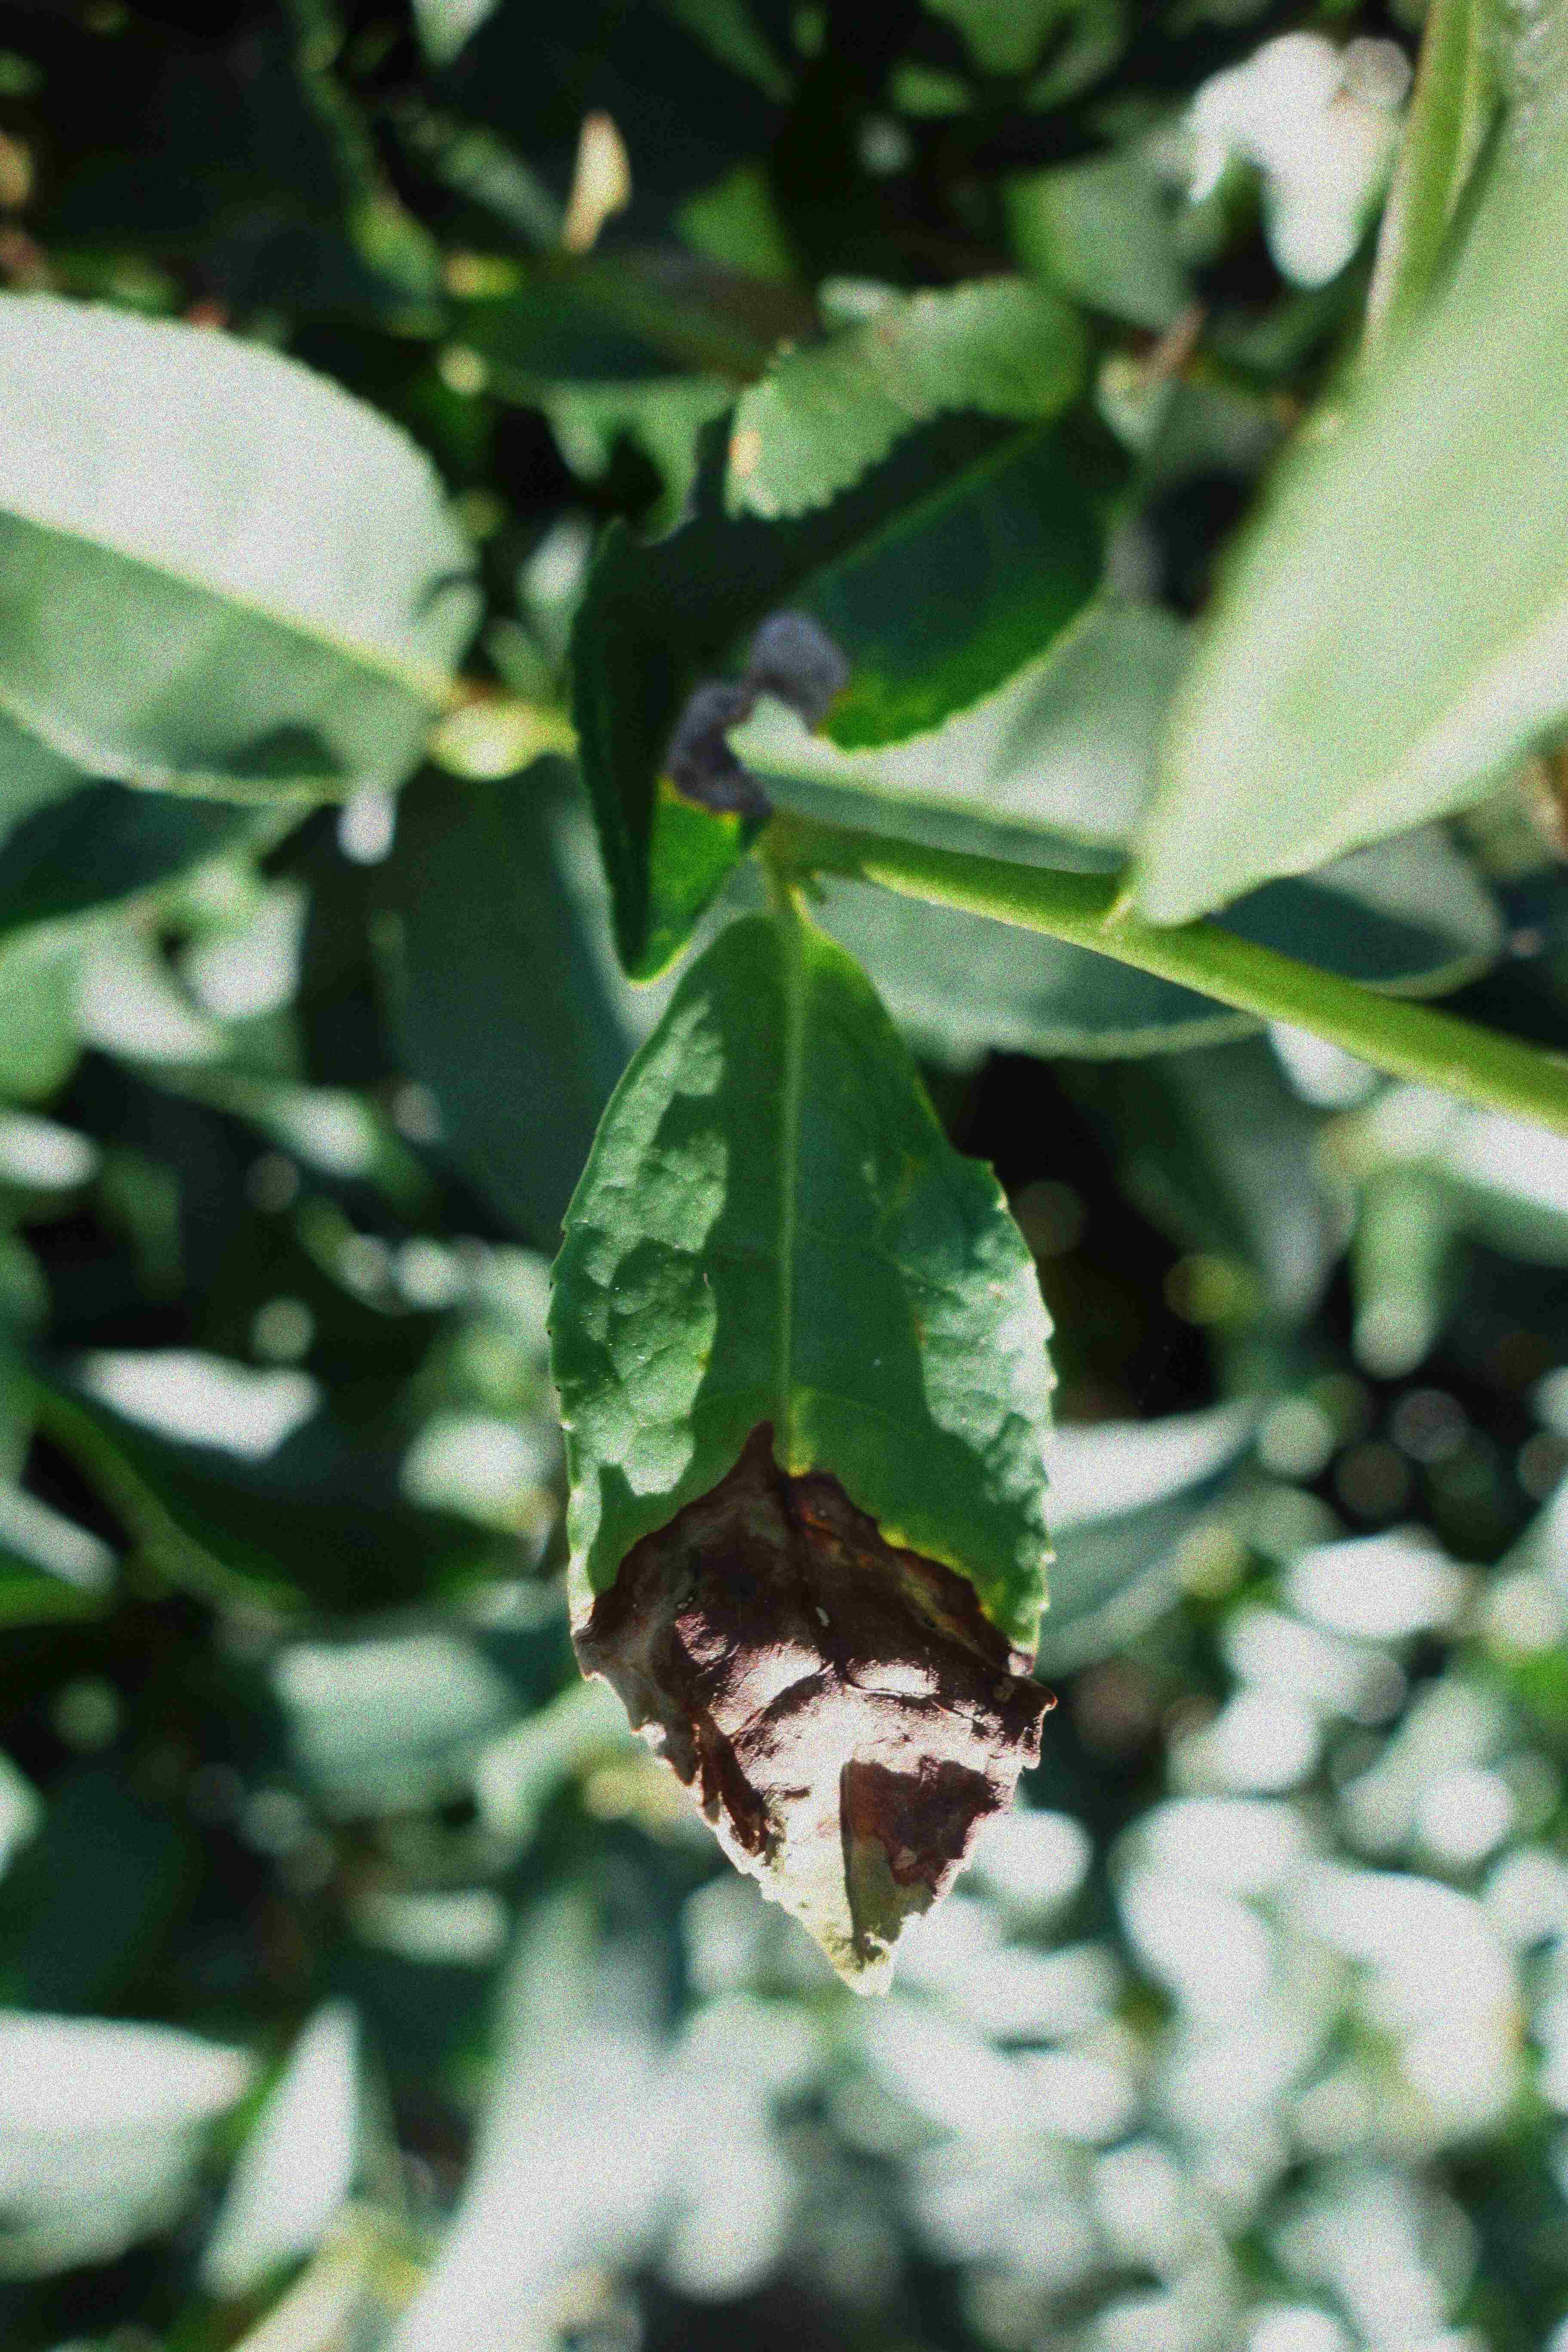tanju_high: (546, 901, 1057, 1995)
